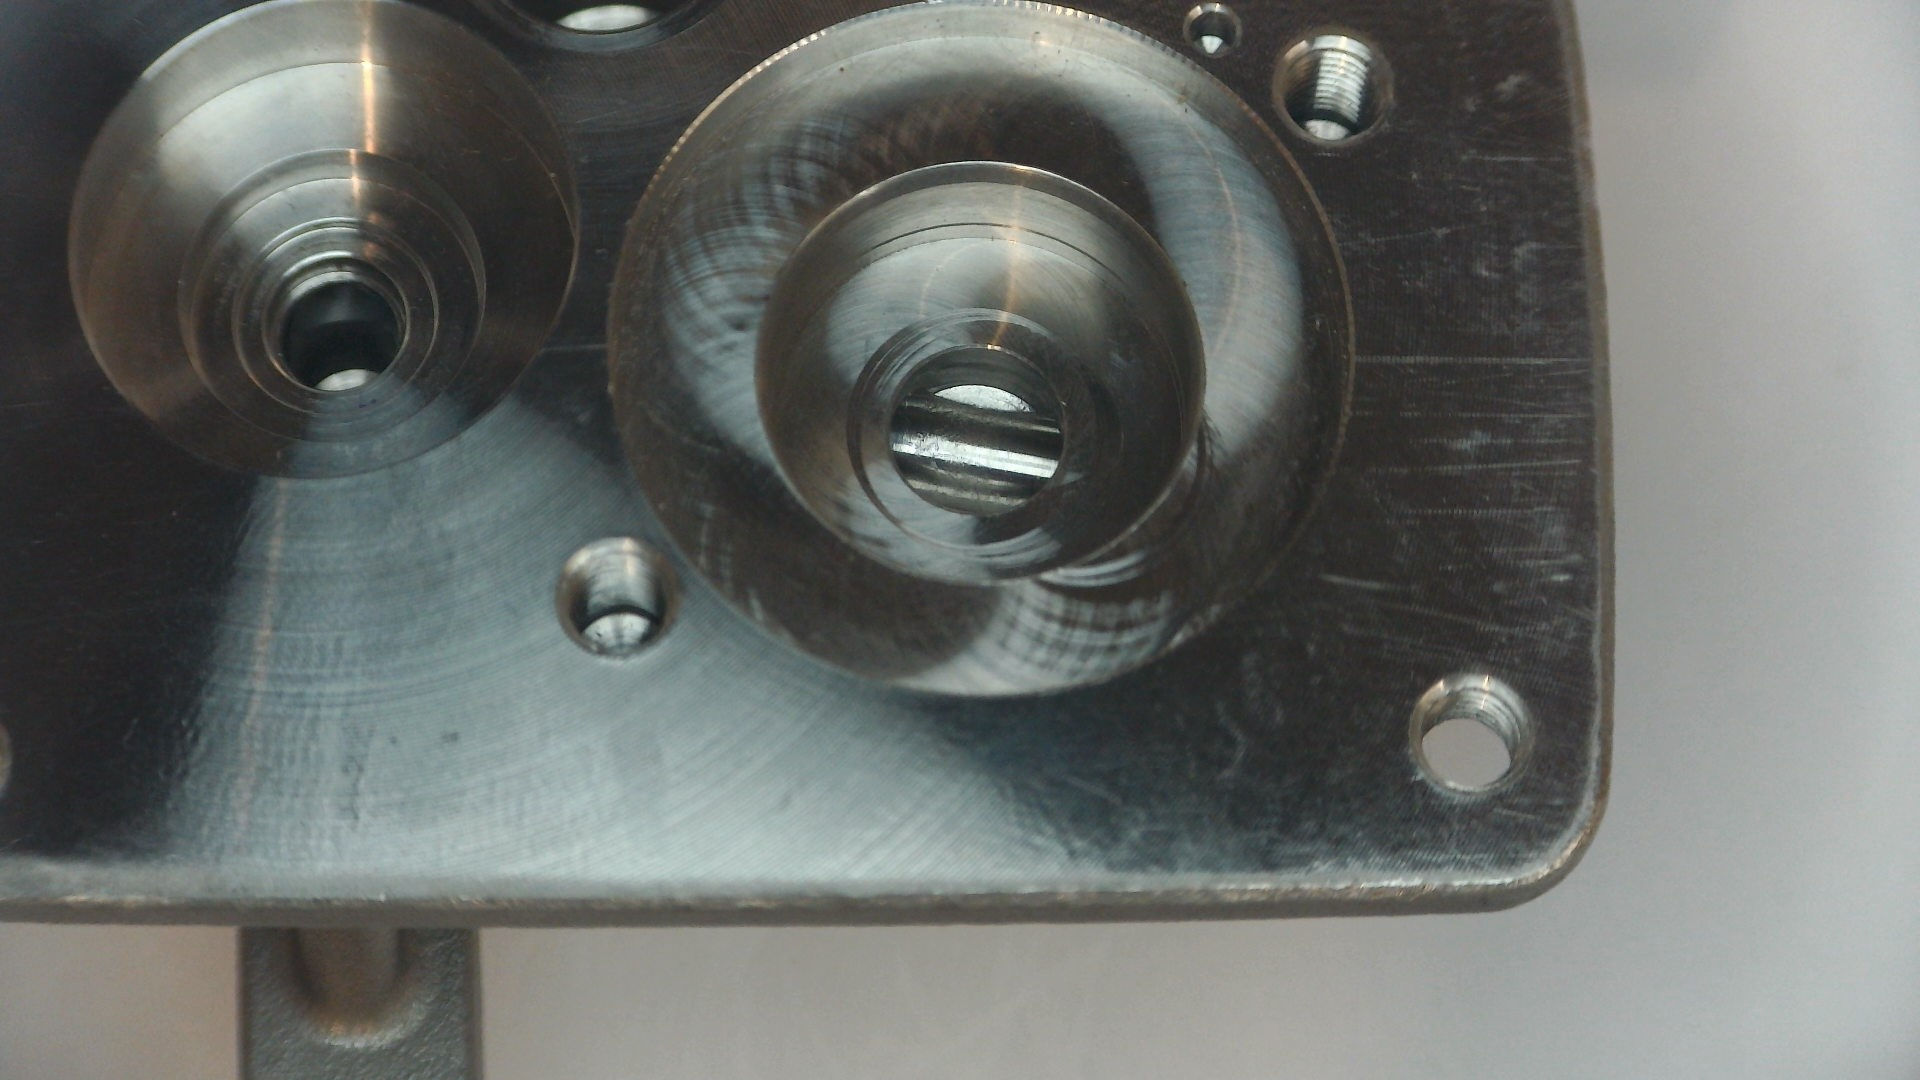thread_presence: (1274, 42, 1379, 136), (564, 547, 671, 626), (1418, 683, 1524, 761)
